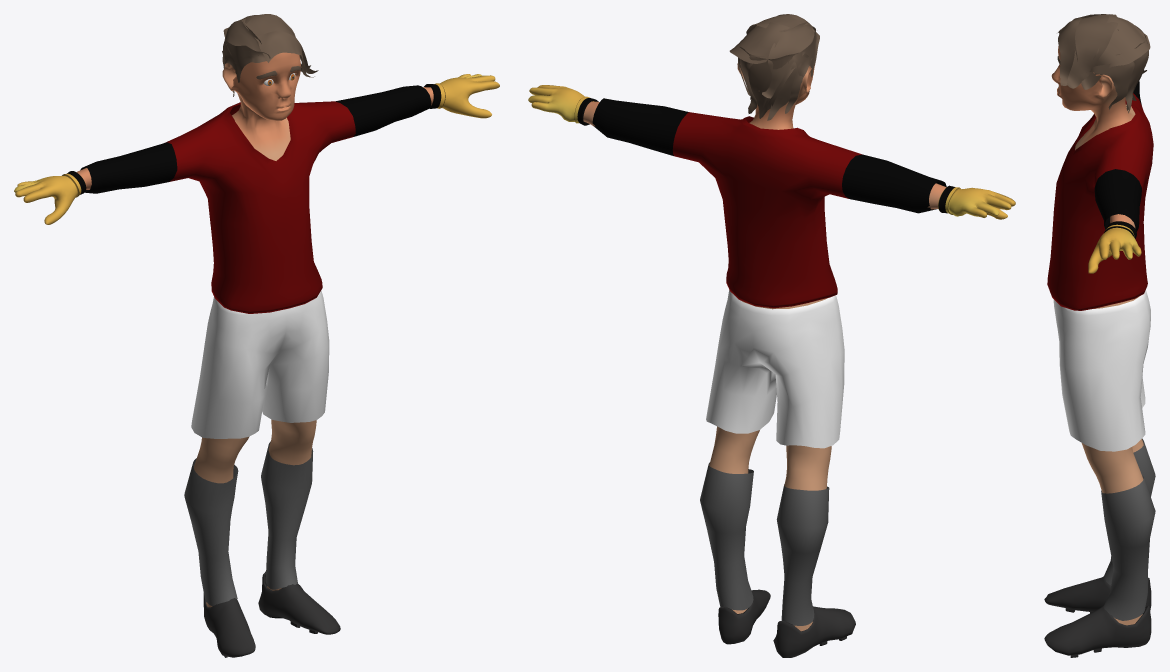
Rendered from jugador_futbol2.fbx.
3 renders of one model, left to right at view 1: azimuth 30°, elevation 25°; view 2: azimuth 150°, elevation 25°; view 3: azimuth 270°, elevation 25°, orthographic.
Visible parts, largest first — view 1: Extract1_2, Extract3_2, prensa_personaje_director3, prensa_personaje_director4, Extract13_03, prensa_personaje_director5, pPlane9, pPlane10, pPlane15; view 2: Extract1_2, Extract3_2, prensa_personaje_director3, prensa_personaje_director4, Extract13_03, prensa_personaje_director5, pPlane19, pPlane16, pPlane11, pPlane15; view 3: Extract1_2, Extract3_2, prensa_personaje_director3, prensa_personaje_director4, Extract13_03, pPlane10, pPlane11, prensa_personaje_director5, pPlane9, pPlane17, pPlane14.
Part boxes in pixels (x1,y1,x2,y2): Extract1_2: (80,85,431,313); Extract3_2: (191,290,329,438); prensa_personaje_director3: (184,441,313,605); prensa_personaje_director4: (76,52,433,607); Extract13_03: (203,571,340,657); prensa_personaje_director5: (14,74,499,224); pPlane9: (257,31,314,77); pPlane10: (242,14,318,73); pPlane15: (222,38,270,96); Extract1_2: (592,98,946,308); Extract3_2: (706,290,844,448); prensa_personaje_director3: (700,462,829,625); prensa_personaje_director4: (583,25,946,631); Extract13_03: (718,589,855,657); prensa_personaje_director5: (528,85,1015,219); pPlane19: (757,22,814,98); pPlane16: (739,51,805,118); pPlane11: (729,22,789,63); pPlane15: (785,26,819,113); Extract1_2: (1047,81,1153,310); Extract3_2: (1053,290,1150,451); prensa_personaje_director3: (1101,438,1155,620); prensa_personaje_director4: (1051,46,1143,625); Extract13_03: (1044,576,1151,657); pPlane10: (1067,14,1117,88); pPlane11: (1081,14,1150,89); prensa_personaje_director5: (1088,221,1141,273); pPlane9: (1058,17,1081,85); pPlane17: (1089,62,1134,109); pPlane14: (1116,37,1148,113).
Size of the model in its own units: 12.91 by 15.83 by 2.6.
